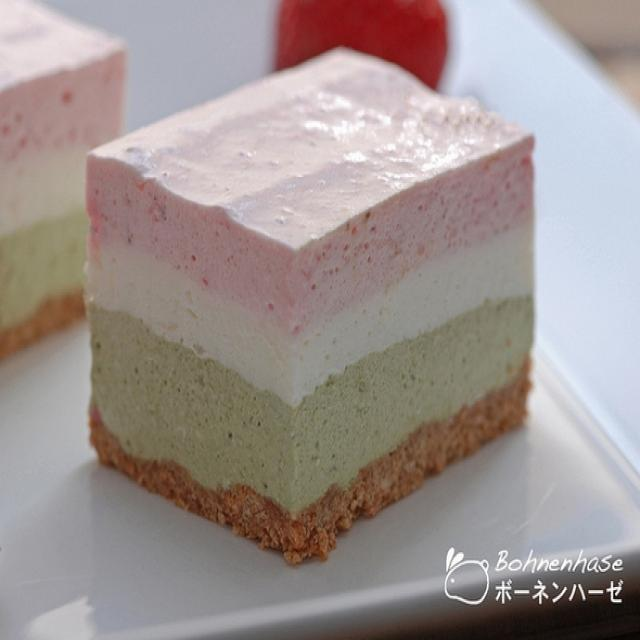Rare cheese cake: (41, 19, 585, 568)
